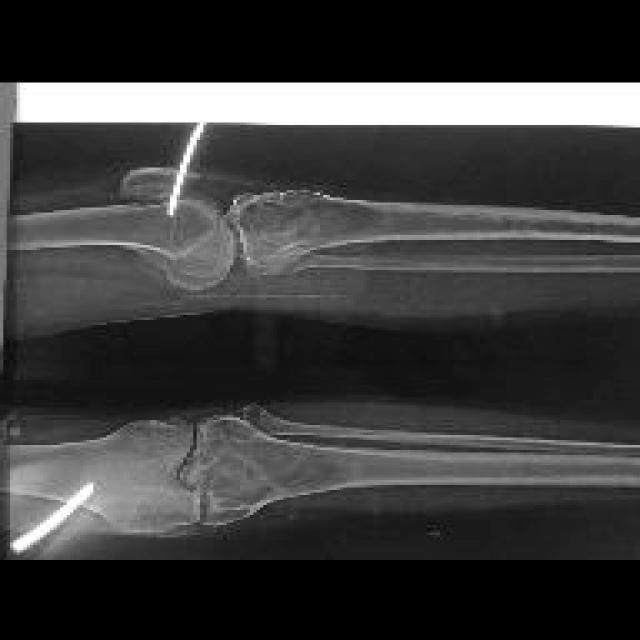bone-cancer: (200, 420, 349, 513), (231, 192, 376, 262)
